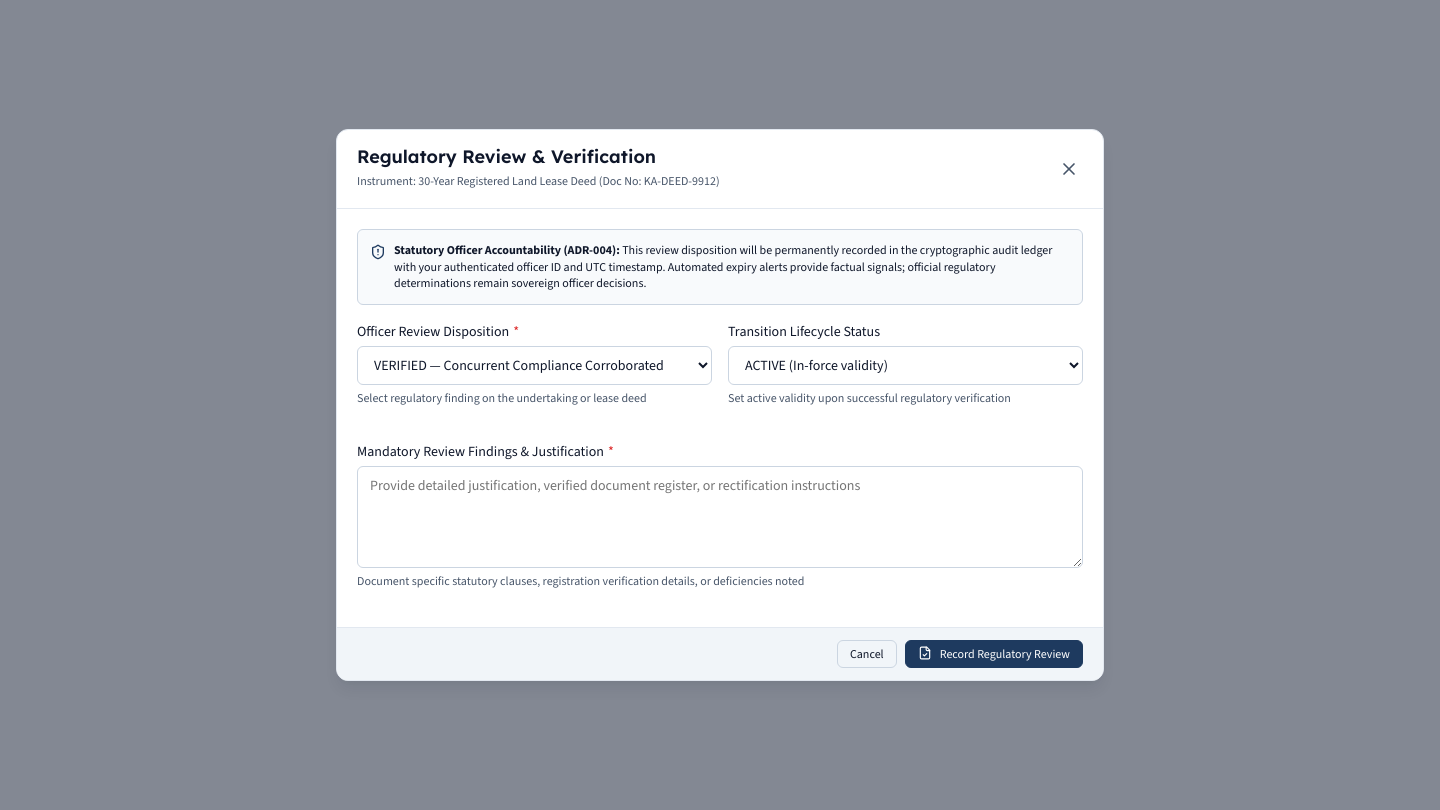
Test: Undertakings Components (FE-07) › ReviewUndertakingModal › renders API error message when review request fails
Replace the text in the text box with placeholder "Provide detailed justification, verified document register" with "Valid review justification note" at {"x": 720, "y": 517}, box [357, 466, 1083, 568]
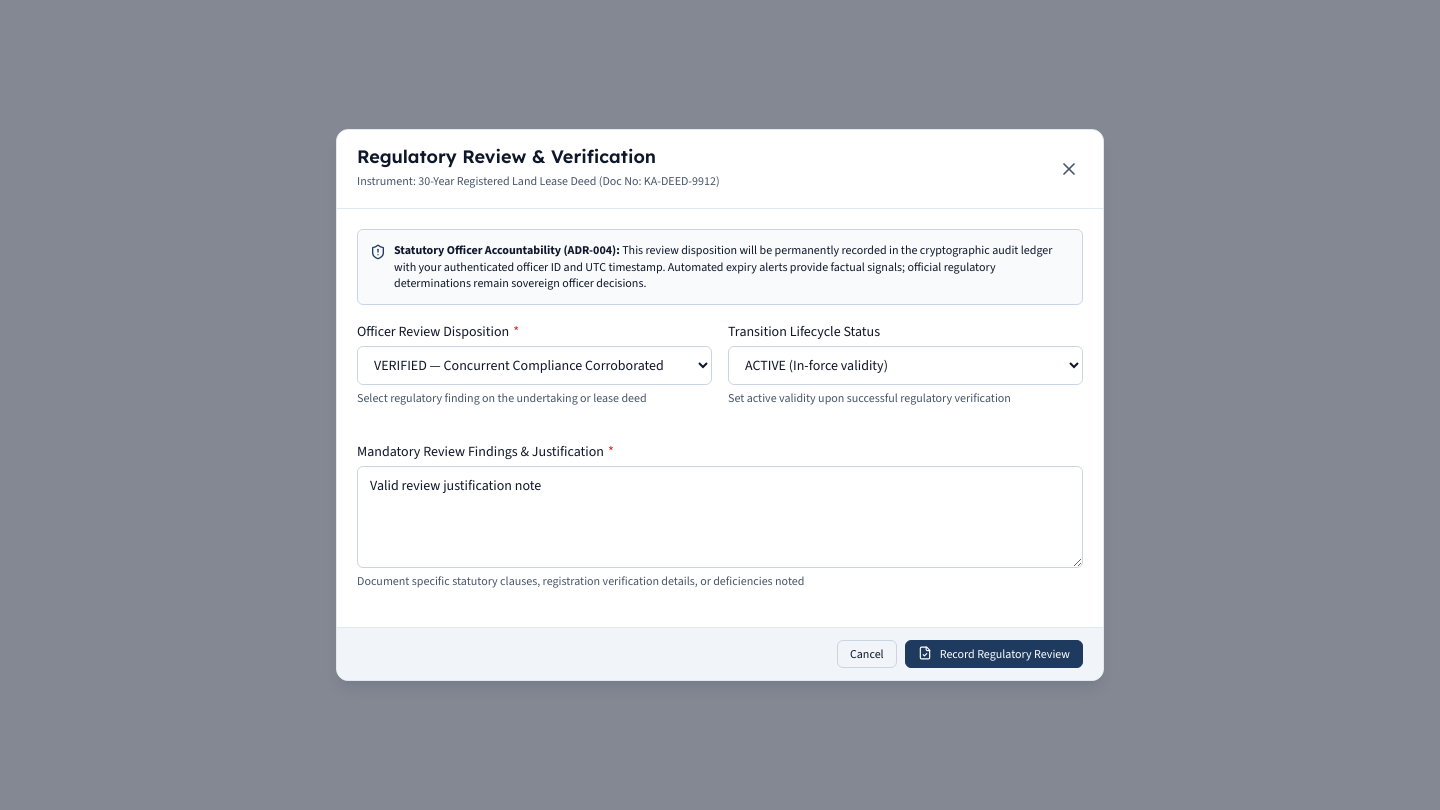
Click the button "Record Regulatory Review" at {"x": 994, "y": 654}, box [905, 640, 1083, 668]
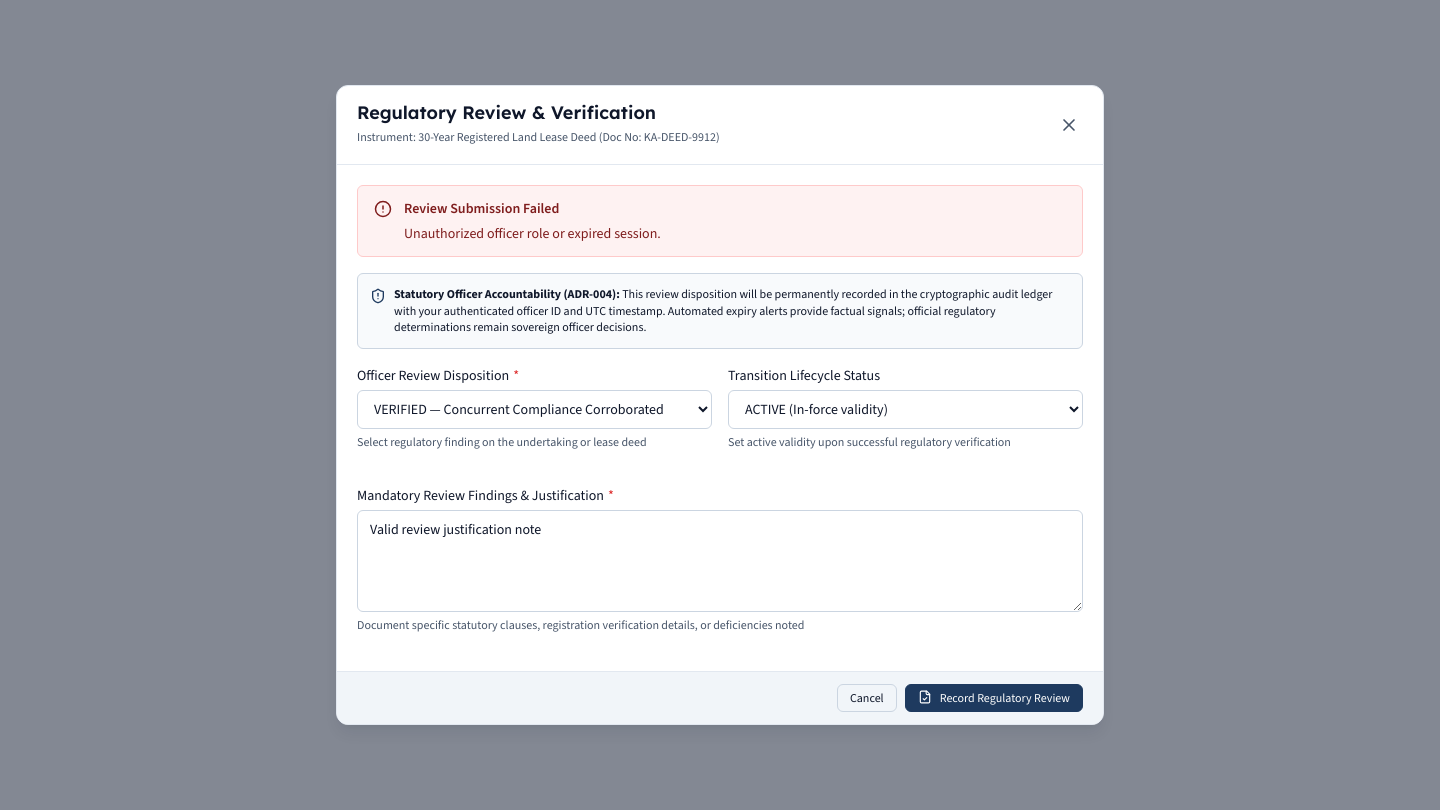
Result: the text "Unauthorized officer role or expired session." is shown at [404, 224, 661, 243]
